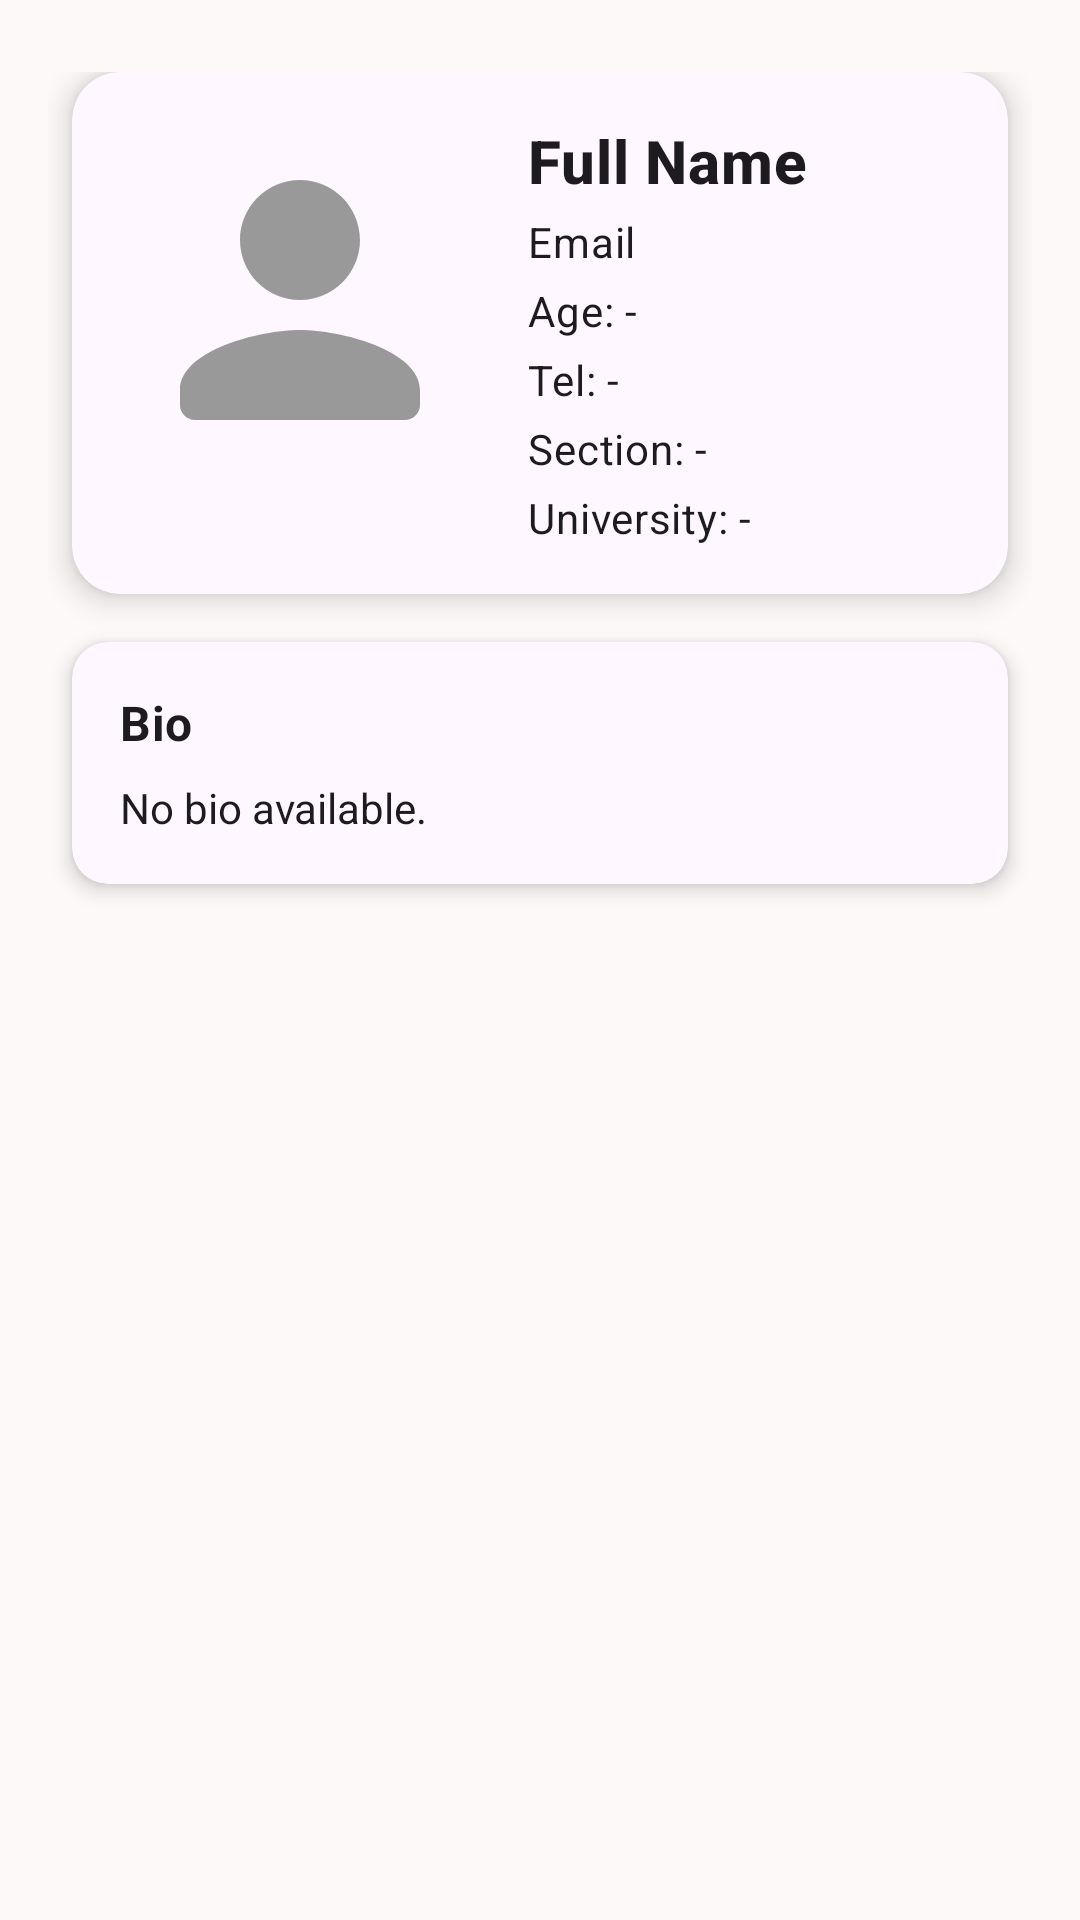

Icon click points for this 1080*1920 phone screenshot, format point (x, y):
profile pic: point (300, 300)
